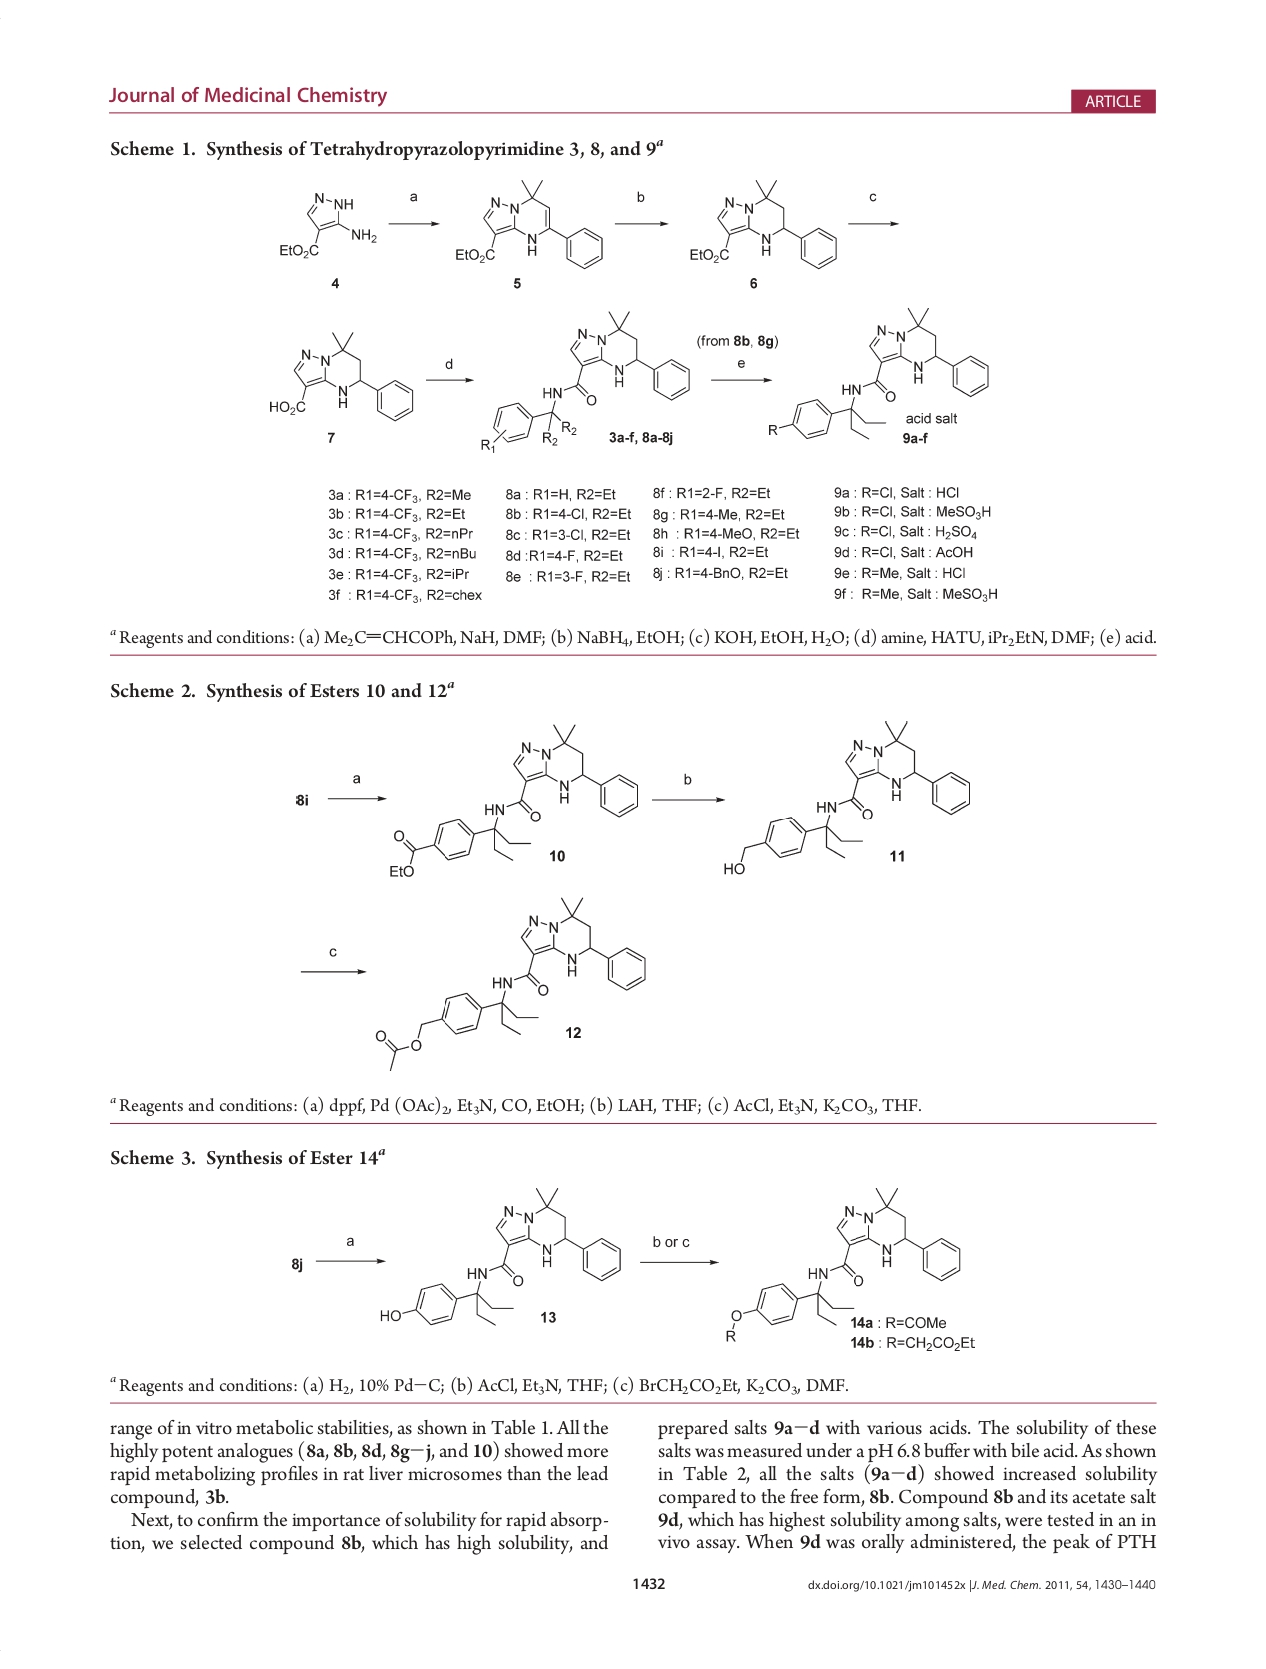exist_molecular: (375, 894, 652, 1072), (386, 722, 642, 878), (721, 719, 973, 874), (725, 1185, 965, 1342), (379, 1185, 626, 1330), (477, 309, 694, 453), (765, 306, 993, 442), (451, 177, 612, 273), (688, 176, 840, 274), (265, 330, 418, 426), (273, 186, 380, 265)
